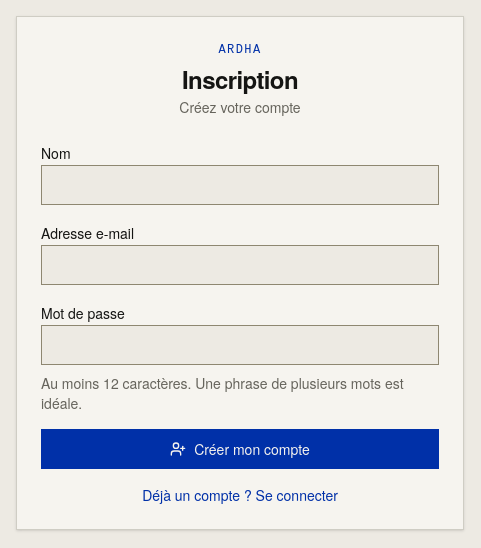
it: inscription › refuse un mot de passe trop court avant l’envoi (Q2)
In the field labelled "Nom": {"x": 240, "y": 185} top-left (41, 165), bottom-right (439, 205), type "Alice"
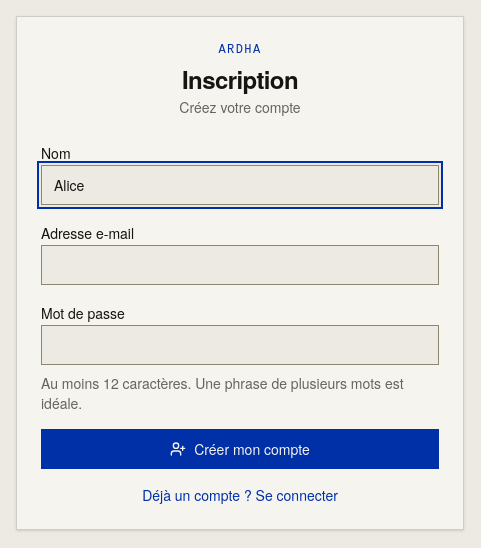
In the field labelled "Adresse e-mail": {"x": 240, "y": 265} top-left (41, 245), bottom-right (439, 285), type "alice@exemple.fr"
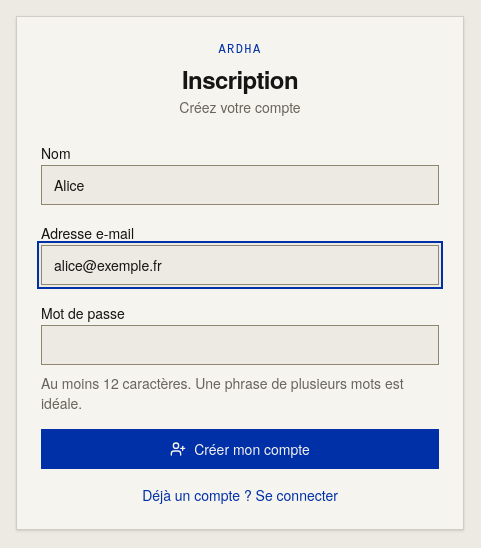
In the password field labelled "Mot de passe": {"x": 240, "y": 345} top-left (41, 325), bottom-right (439, 365), type "court"
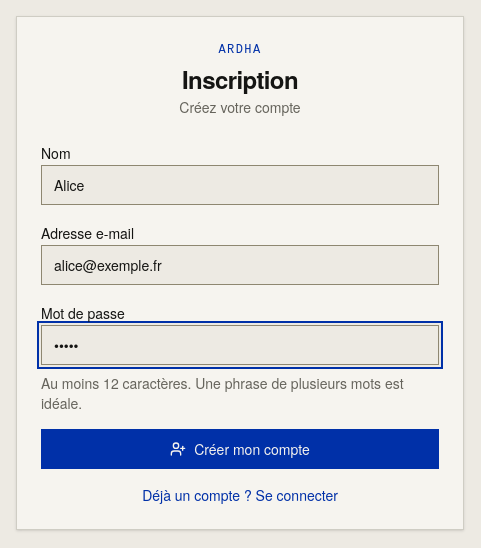
Click the button "Créer mon compte": {"x": 240, "y": 449} top-left (41, 429), bottom-right (439, 469)
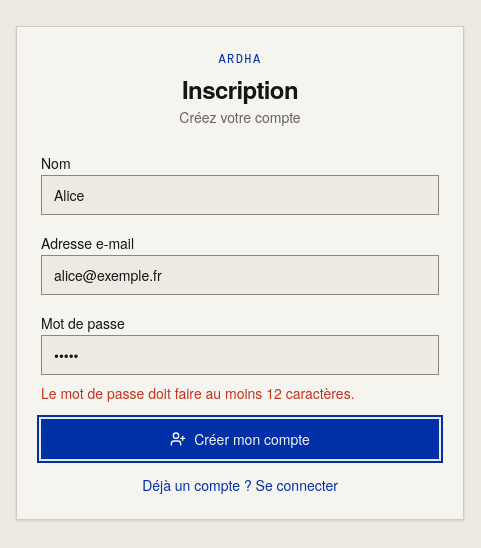
Check: the text "Le mot de passe doit faire au moins 12 caractères." is shown, box top-left (41, 383), bottom-right (354, 403)
